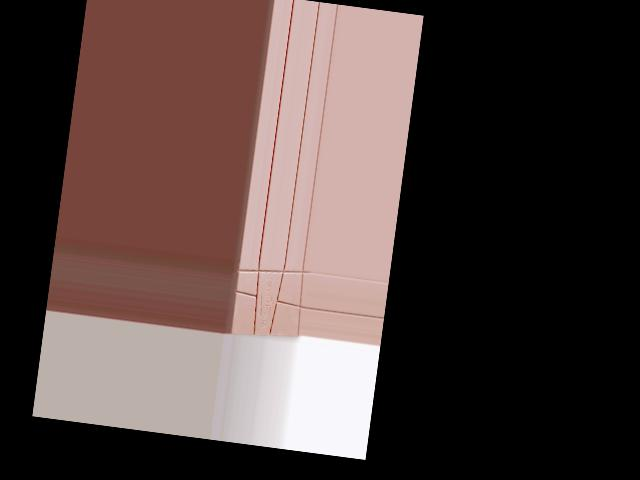chocolate: (226, 257, 310, 344)
